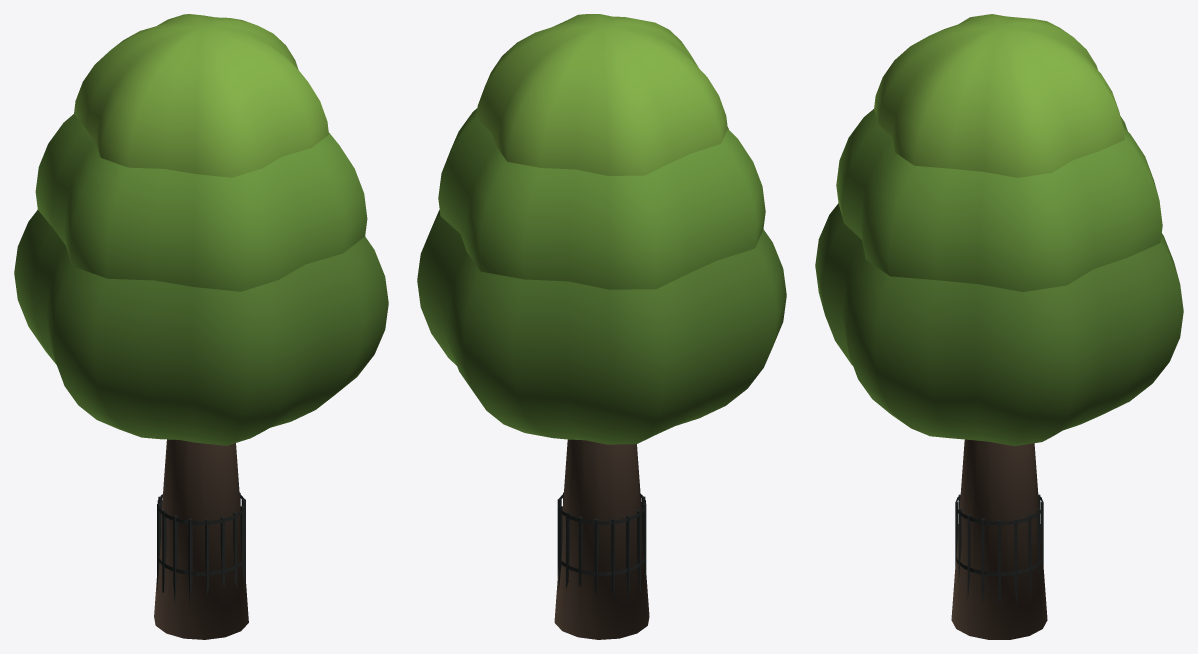
The model's file is linden-tree.glb.
3 renders of one model, left to right at view 1: azimuth 30°, elevation 25°; view 2: azimuth 150°, elevation 25°; view 3: azimuth 270°, elevation 25°, orthographic.
Parts seen in each view (by area): view 1: Canopy_Tier1_Base, Canopy_Tier2_Mid, Canopy_Tier3_Top, Trunk, TreeGuard; view 2: Canopy_Tier1_Base, Canopy_Tier2_Mid, Canopy_Tier3_Top, Trunk, TreeGuard; view 3: Canopy_Tier1_Base, Canopy_Tier2_Mid, Canopy_Tier3_Top, Trunk, TreeGuard.
Part boxes in pixels (box(x1,y1,x2,y2)): Canopy_Tier1_Base: box(14, 210, 388, 445); Canopy_Tier2_Mid: box(35, 114, 367, 291); Canopy_Tier3_Top: box(74, 14, 328, 177); Trunk: box(154, 439, 248, 639); TreeGuard: box(157, 493, 245, 604); Canopy_Tier1_Base: box(417, 210, 786, 444); Canopy_Tier2_Mid: box(438, 108, 765, 289); Canopy_Tier3_Top: box(476, 14, 727, 175); Trunk: box(554, 439, 649, 639); TreeGuard: box(557, 492, 646, 604); Canopy_Tier1_Base: box(815, 203, 1183, 446); Canopy_Tier2_Mid: box(836, 109, 1162, 291); Canopy_Tier3_Top: box(874, 14, 1124, 177); Trunk: box(951, 439, 1047, 639); TreeGuard: box(955, 494, 1043, 605).
Bounding box in the file's own units: 3.67 × 6.44 × 3.62.
